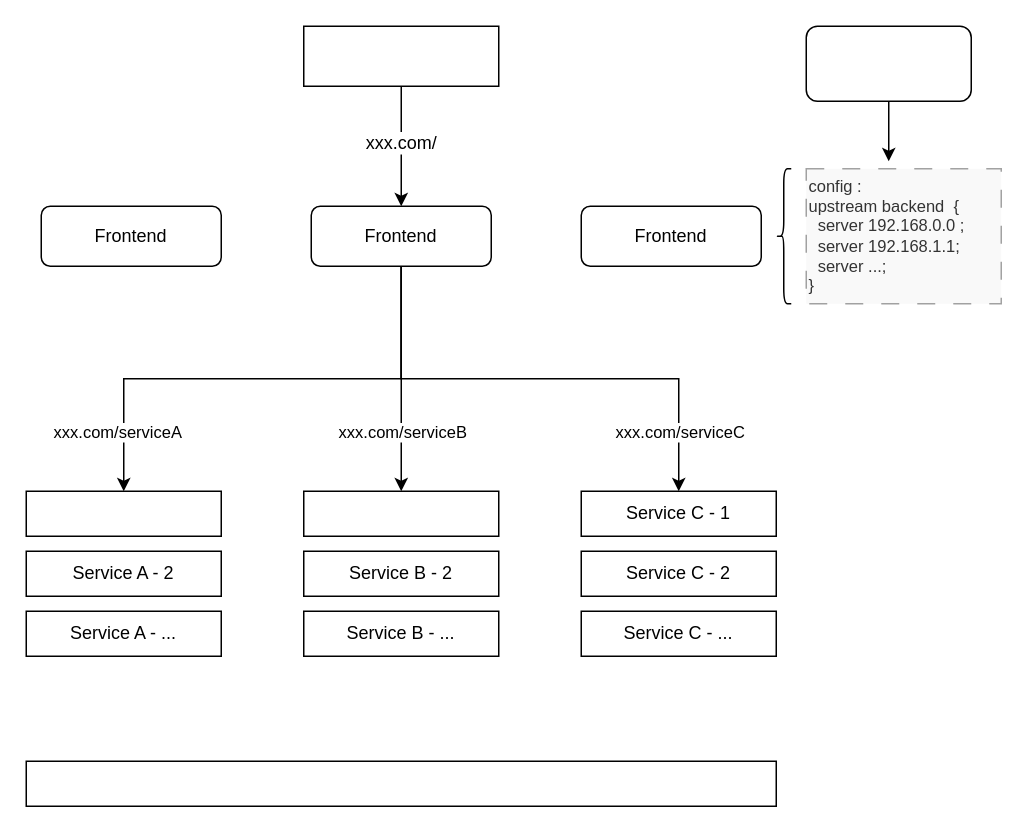
Some shapes in this 1028 by 833 pixel diagram are drawn without their labels. Each missing label, with the centre of its shape:
Ceph/nfs/ansible...: the point at 888,63
Consul: the point at 400,783
Nginx: the point at 400,55
Service A - 1: the point at 123,513
Service B - 1: the point at 400,513
